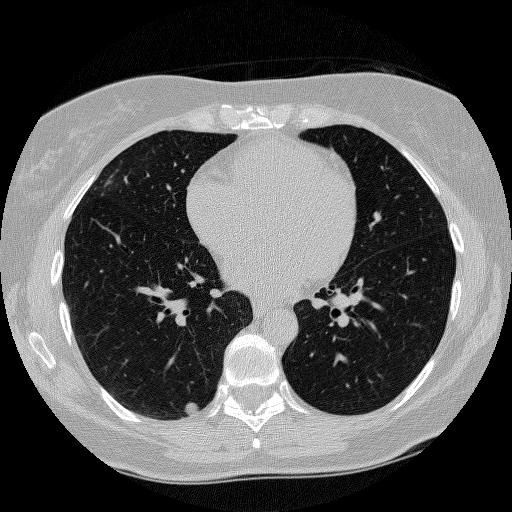nodule: (184, 400, 200, 416)
